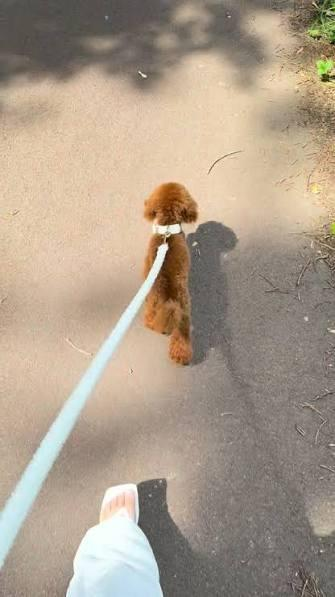adult_dog: (142, 182, 199, 365)
